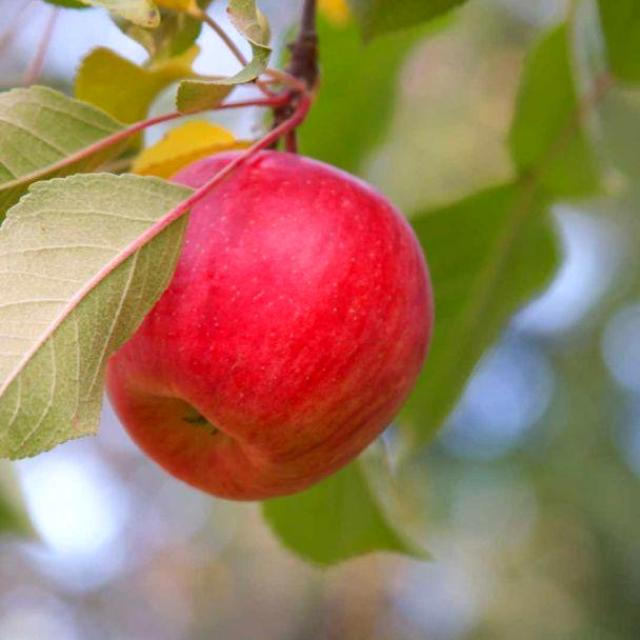HEALTHY: (82, 92, 478, 524)
